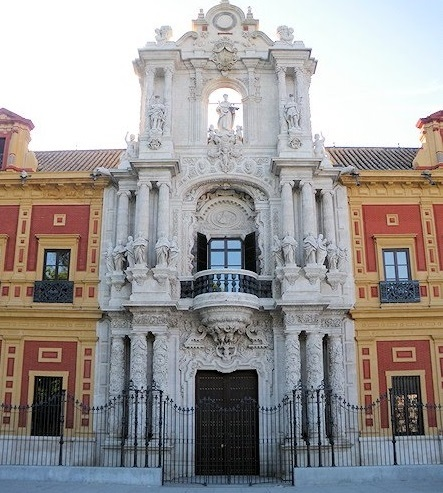arco-medio-punto: (198, 74, 251, 103)
vano-adintelado: (368, 231, 428, 309), (30, 231, 84, 308), (383, 367, 430, 437), (26, 366, 67, 439)
